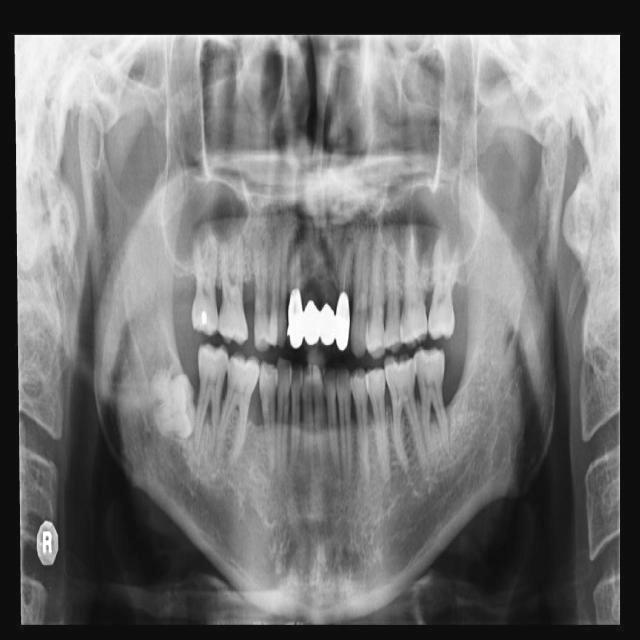Crown: (287, 286, 350, 352)
Filling: (194, 310, 210, 330)
Missing teeth: (246, 316, 254, 329)
impacted tooth: (149, 375, 195, 439)
